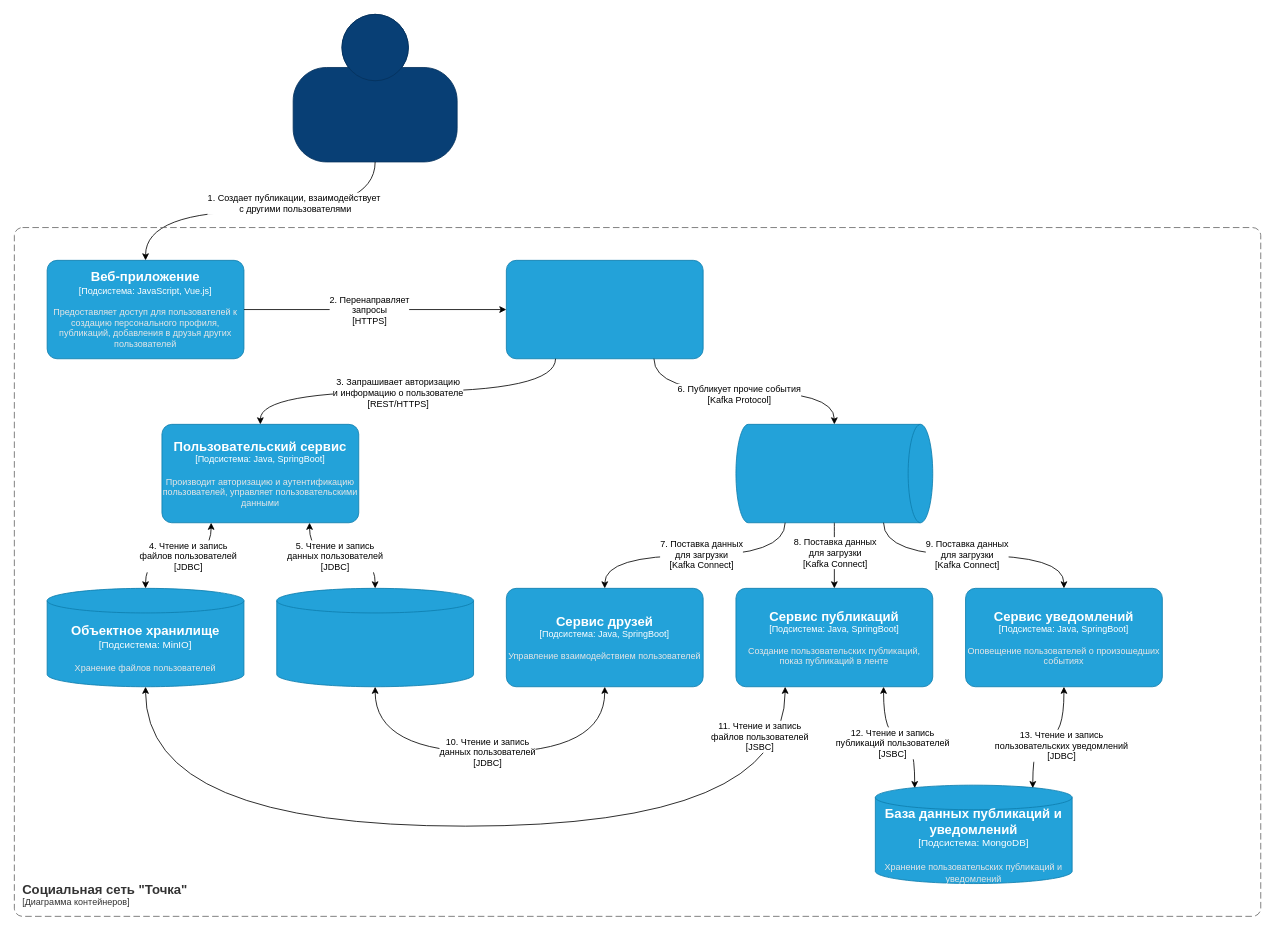
This 1275x931 diagram has some shape labels left out. The centre of each missing label's shape, as x and y in pixels:
API Gateway [Подсистема: Nginx] Единая точка входа, маршрутизация запросов: (x=604, y=309)
База данных пользователей [Подсистема: PostgreSQL] Хранение данных пользователей: (x=375, y=637)
Брокер сообщений [Подсистема: Apache Kafka] Прием и буферизация событий: (x=834, y=473)
Пользователь "Точка" [Пользователь] Конечный пользователь социальной сети: (x=374, y=88)
